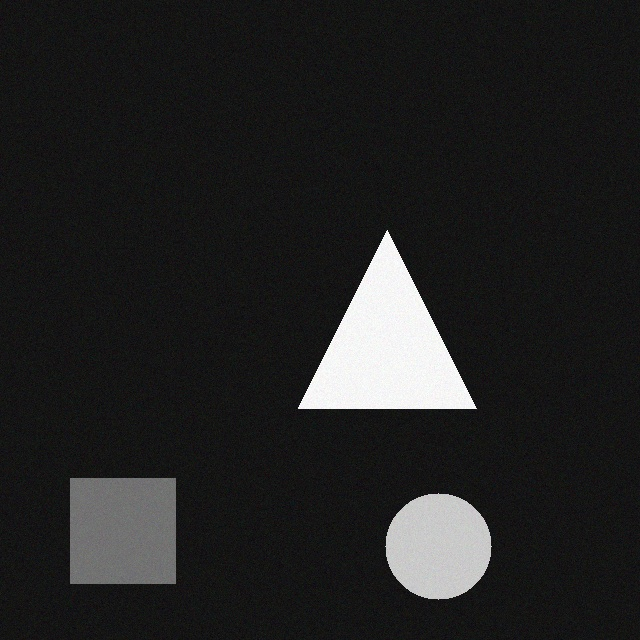circle: (396, 503, 502, 609)
square: (81, 488, 186, 593)
triangle: (309, 240, 487, 418)
